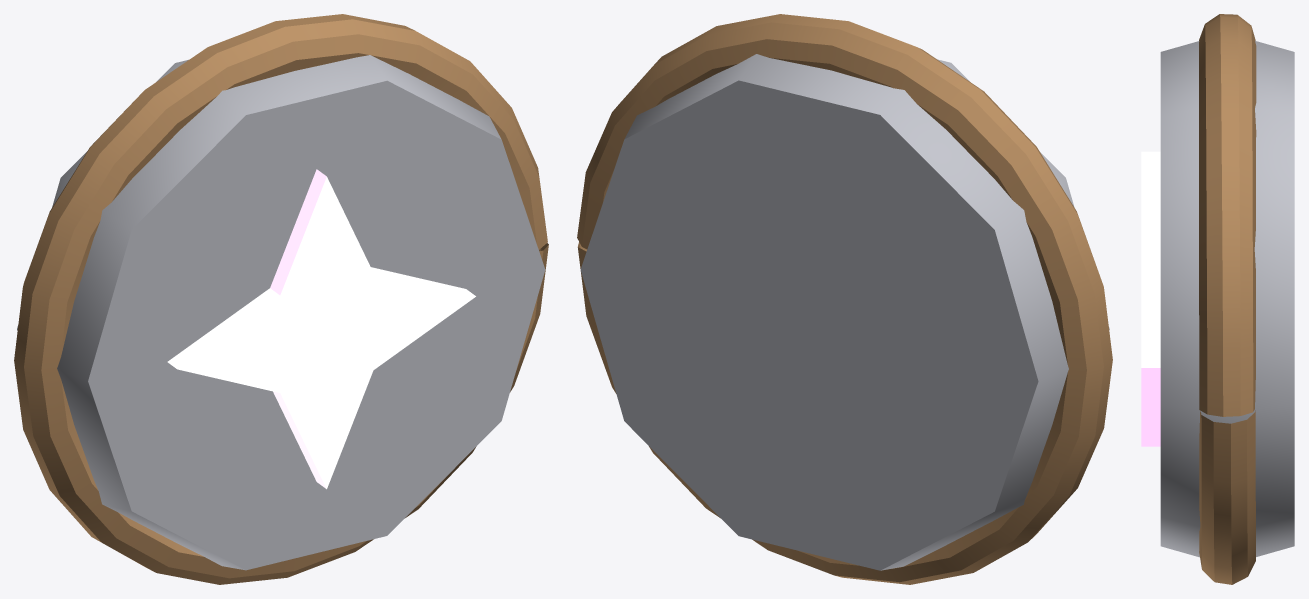
The model's file is ITEM_Rune_Pink.fbx.
The picture shows the model from 3 angles, left to right: view 1: azimuth 30°, elevation 25°; view 2: azimuth 150°, elevation 25°; view 3: azimuth 270°, elevation 25°; orthographic projection. The views are drawn at different scales.
Visible parts, largest first — view 1: ITEM_Rune_Pink; view 2: ITEM_Rune_Pink; view 3: ITEM_Rune_Pink.
Boxes of the visible parts, bbox=[...] form: ITEM_Rune_Pink: bbox=[14, 14, 548, 584]; ITEM_Rune_Pink: bbox=[577, 14, 1112, 584]; ITEM_Rune_Pink: bbox=[1141, 14, 1294, 584].
Size of the model in its own units: 0.5983 by 0.5986 by 0.16.
